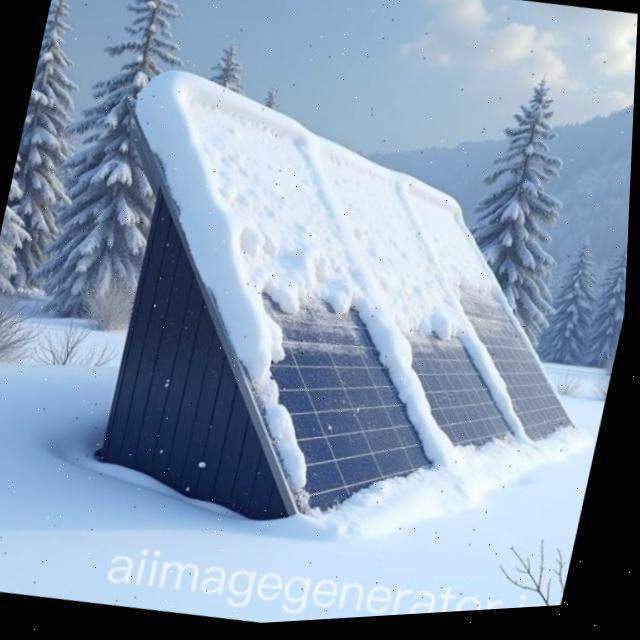Anomaly Solar Panel: (90, 0, 585, 589)
Snow: (98, 0, 578, 575), (542, 430, 577, 462)
